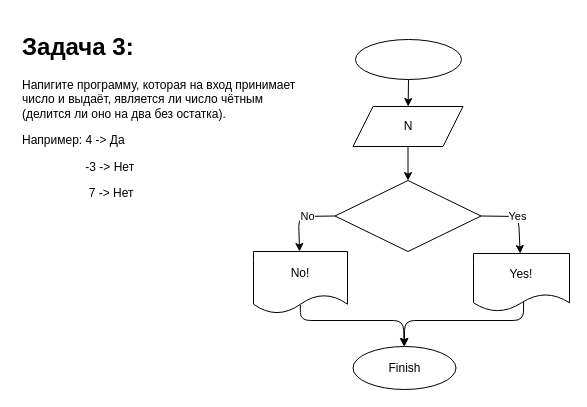
Image size: 587x407. Some labels were removed from this diagram. Here are the shapes that lost their labels. From the top down, the centre of each, then its label:
At point 408,59: "Start".
At point 407,216: "N % 2 == 0".
